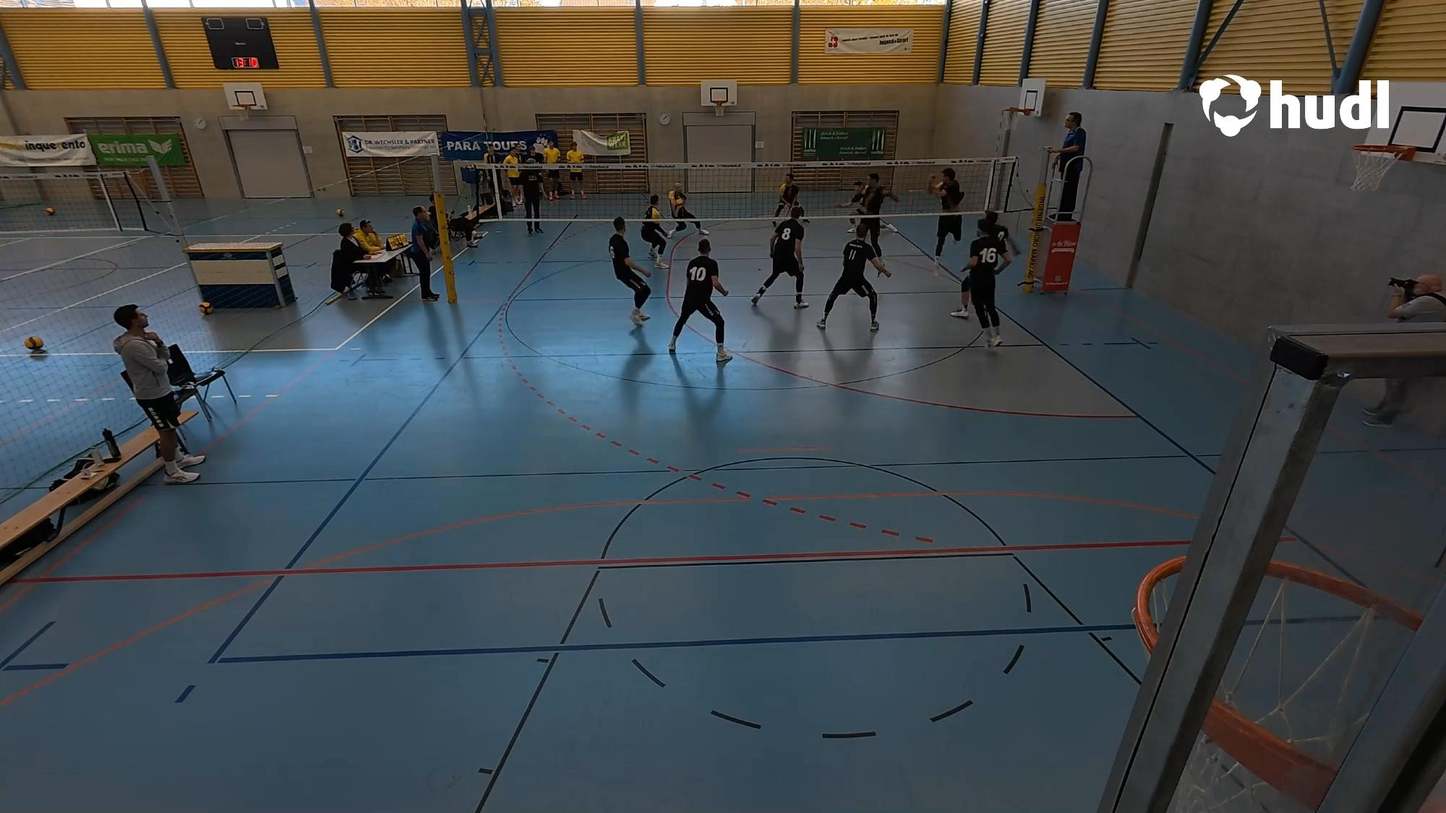difesa: (667, 184, 697, 242)
